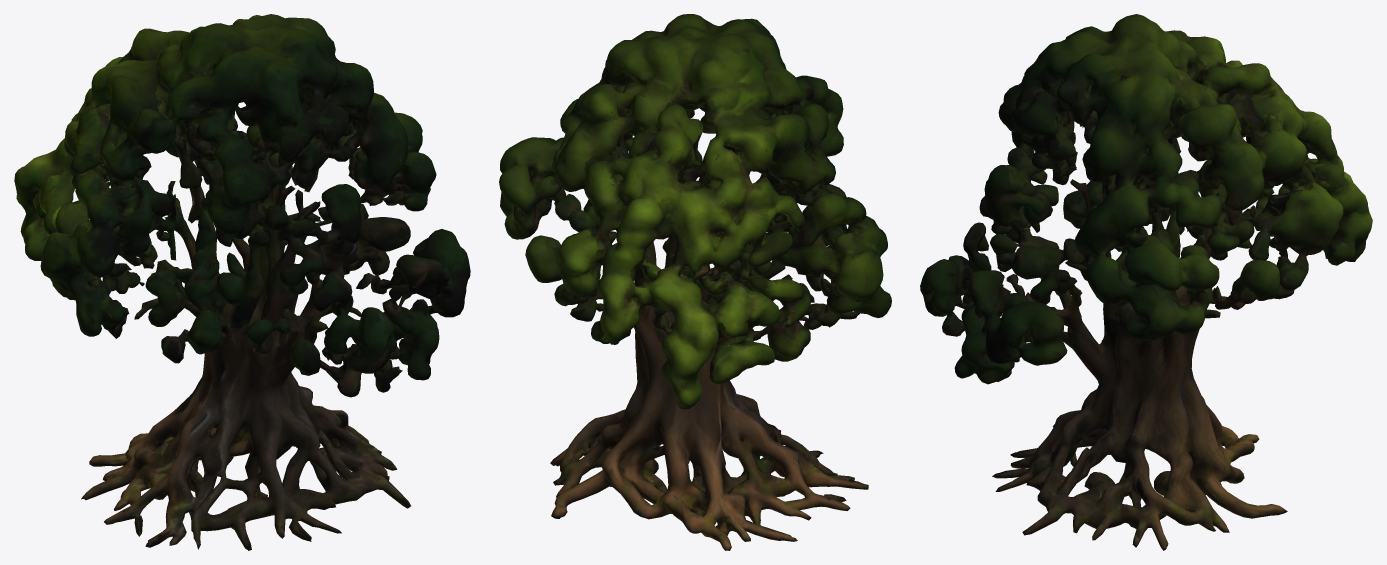
File: Harmony of Nature Triad of 3D Trees_refine.fbx
3 renders of one model, left to right at view 1: azimuth 30°, elevation 25°; view 2: azimuth 150°, elevation 25°; view 3: azimuth 270°, elevation 25°, orthographic. The views are drawn at different scales.
Parts seen in each view (by area): view 1: Mesh_0.002; view 2: Mesh_0.002; view 3: Mesh_0.002.
Part boxes in pixels (<box>): Mesh_0.002: <box>14,14,470,550</box>; Mesh_0.002: <box>499,14,891,550</box>; Mesh_0.002: <box>920,14,1372,550</box>.
Bounding box in the file's own units: 170 × 200 × 180.
Materials: 1 (1 with a texture image).
